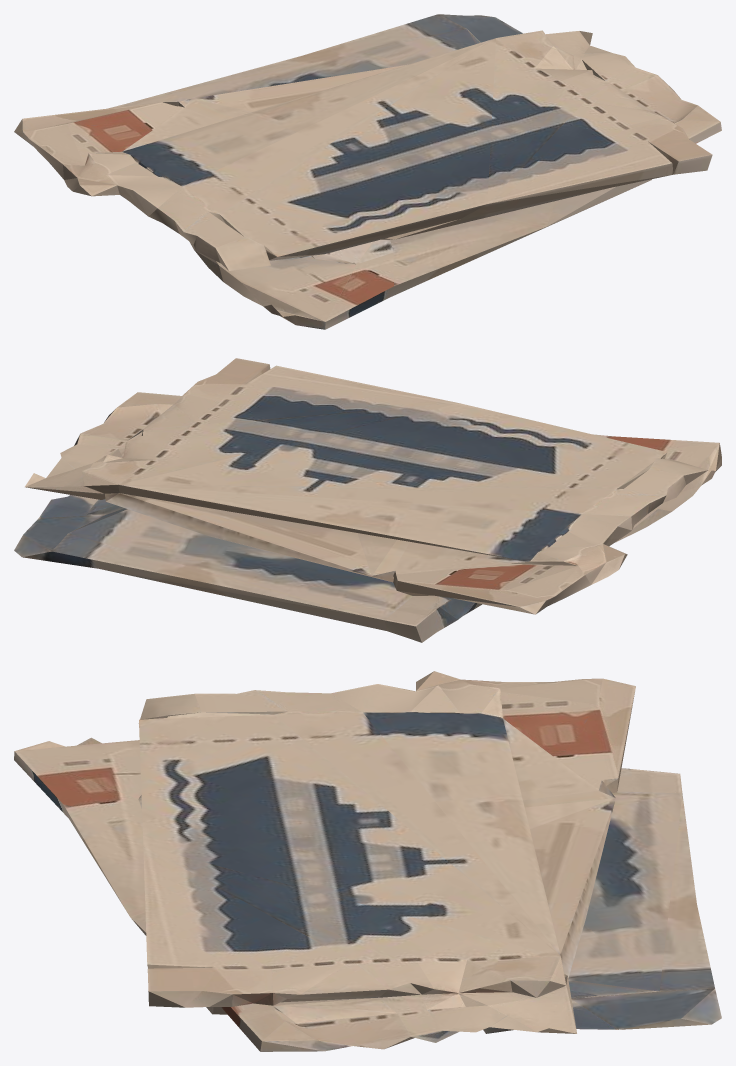
File: tickets.glb
3 renders of one model, top to bottom at view 1: azimuth 30°, elevation 25°; view 2: azimuth 150°, elevation 25°; view 3: azimuth 270°, elevation 25°, orthographic. The views are drawn at different scales.
Size of the model in its own units: 1.89 by 0.1641 by 1.64.
1 material, 1 textured.
